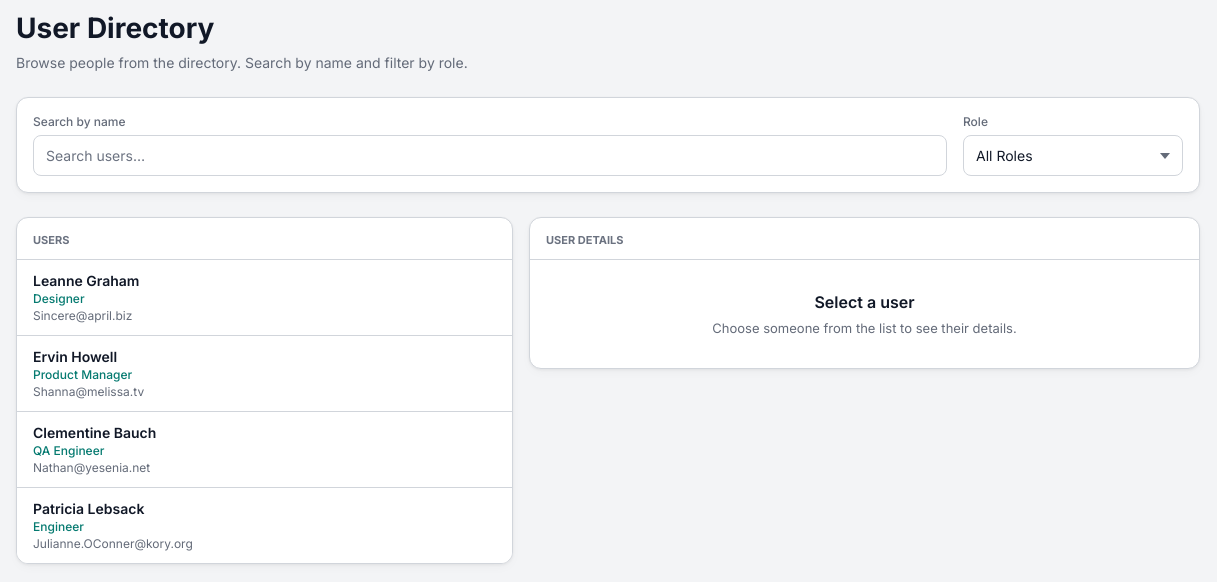
Scenario: User Directory › filters the list by a case-insensitive search term
Expected: the list named "Users" is shown, [17, 260, 512, 562]
In the search field labelled "Search by name": (490, 156) [33, 135, 947, 176], type "eRvIn"
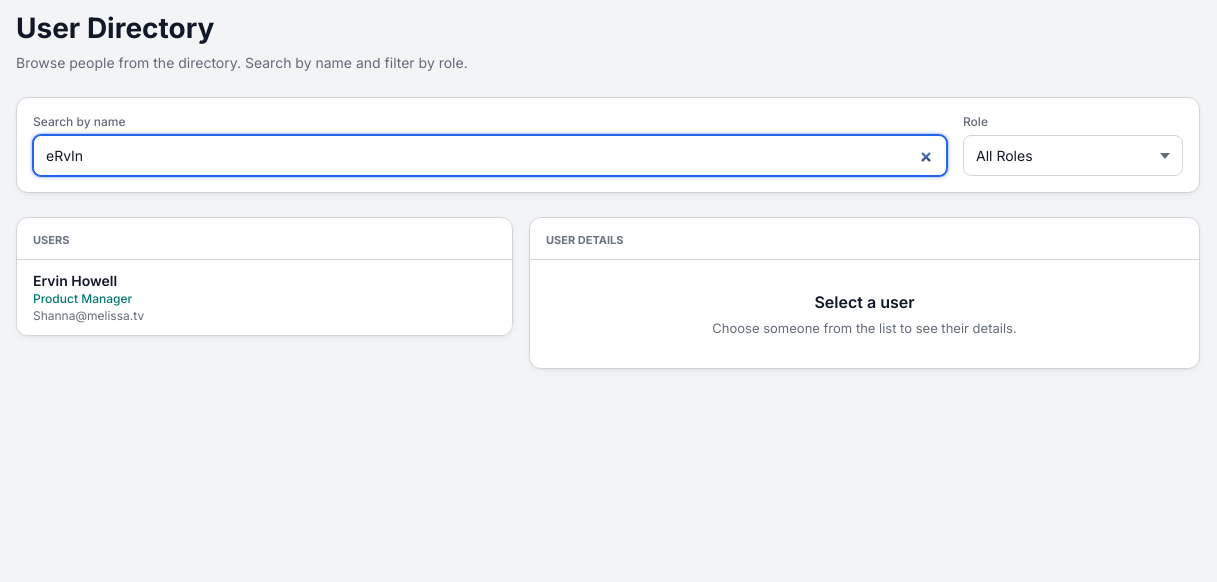
Expected: the button "Leanne Graham" is gone
Expected: the button "Clementine Bauch" is gone
Expected: the button "Patricia Lebsack" is gone
